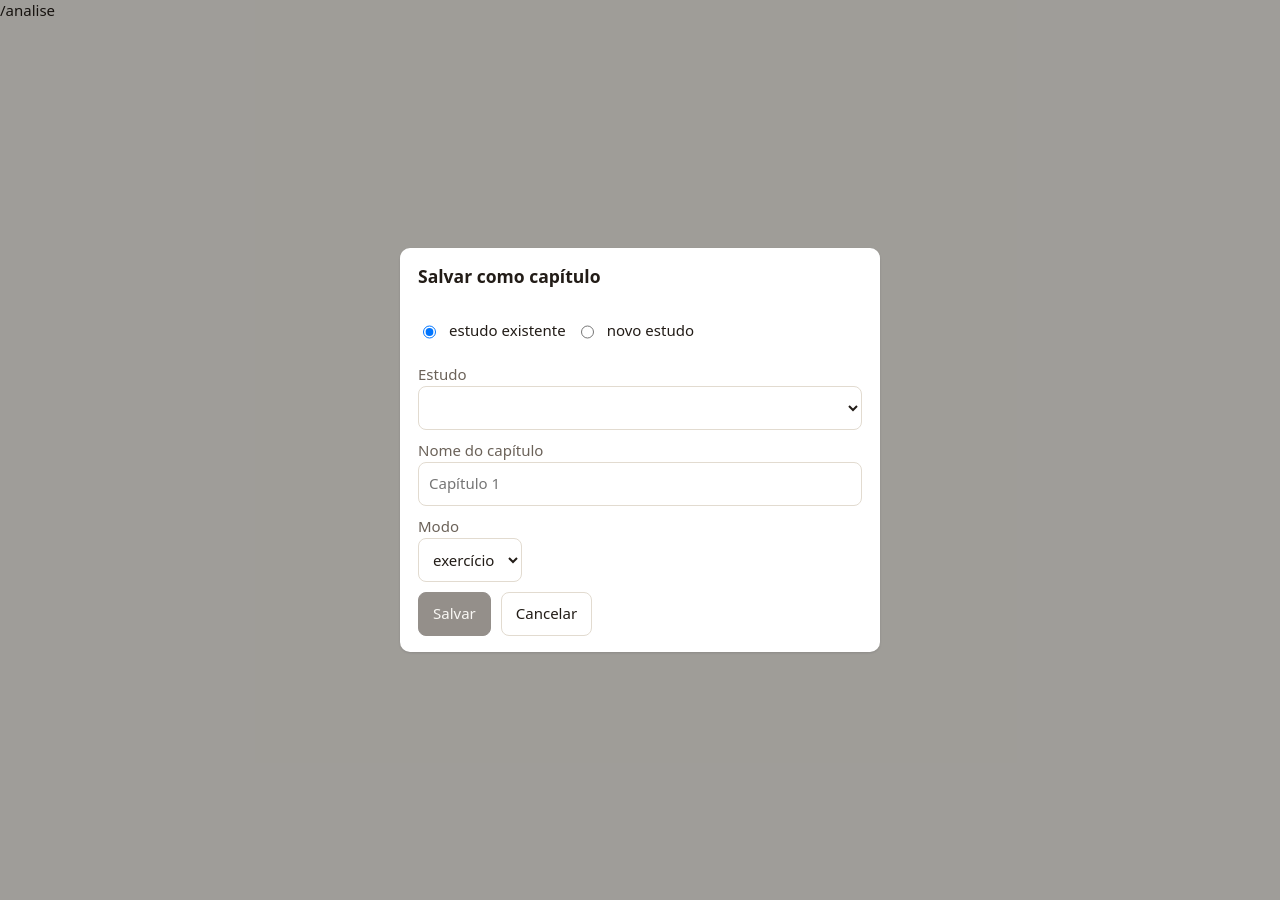
Test: novo estudo: cria o estudo, o capítulo, salva a árvore e abre o editor
The width and height of the screenshot is (1280, 900).
Click the radio button labelled "novo estudo" at (587, 332), box top-left (581, 310), bottom-right (594, 354)
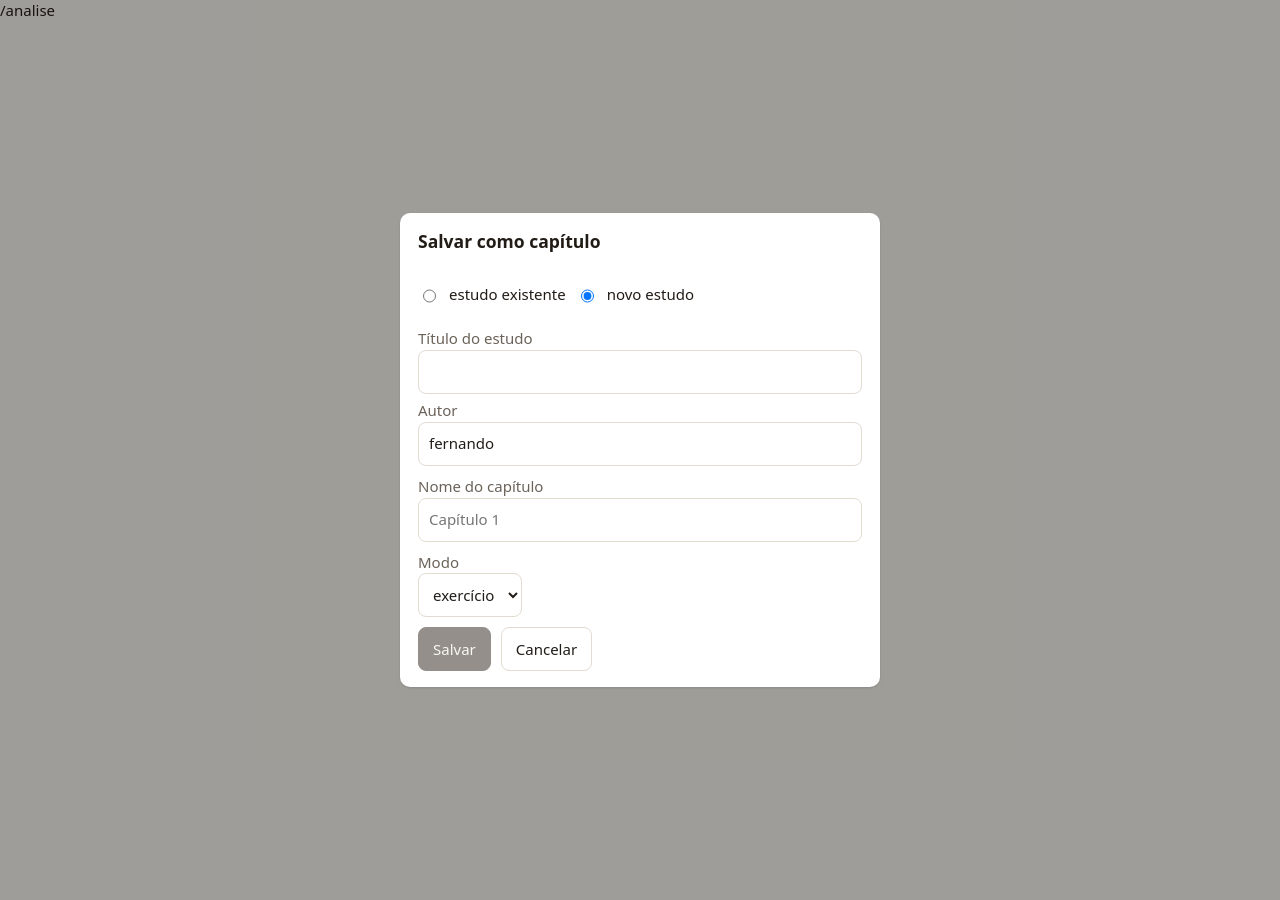
expect the field named "Autor" holds "fernando": met, box top-left (418, 422), bottom-right (862, 466)
Note: o autor sai do nome configurado: espera as configurações chegarem
Type "Aberturas" into the field named "Título do estudo" at (640, 372), box top-left (418, 350), bottom-right (862, 394)
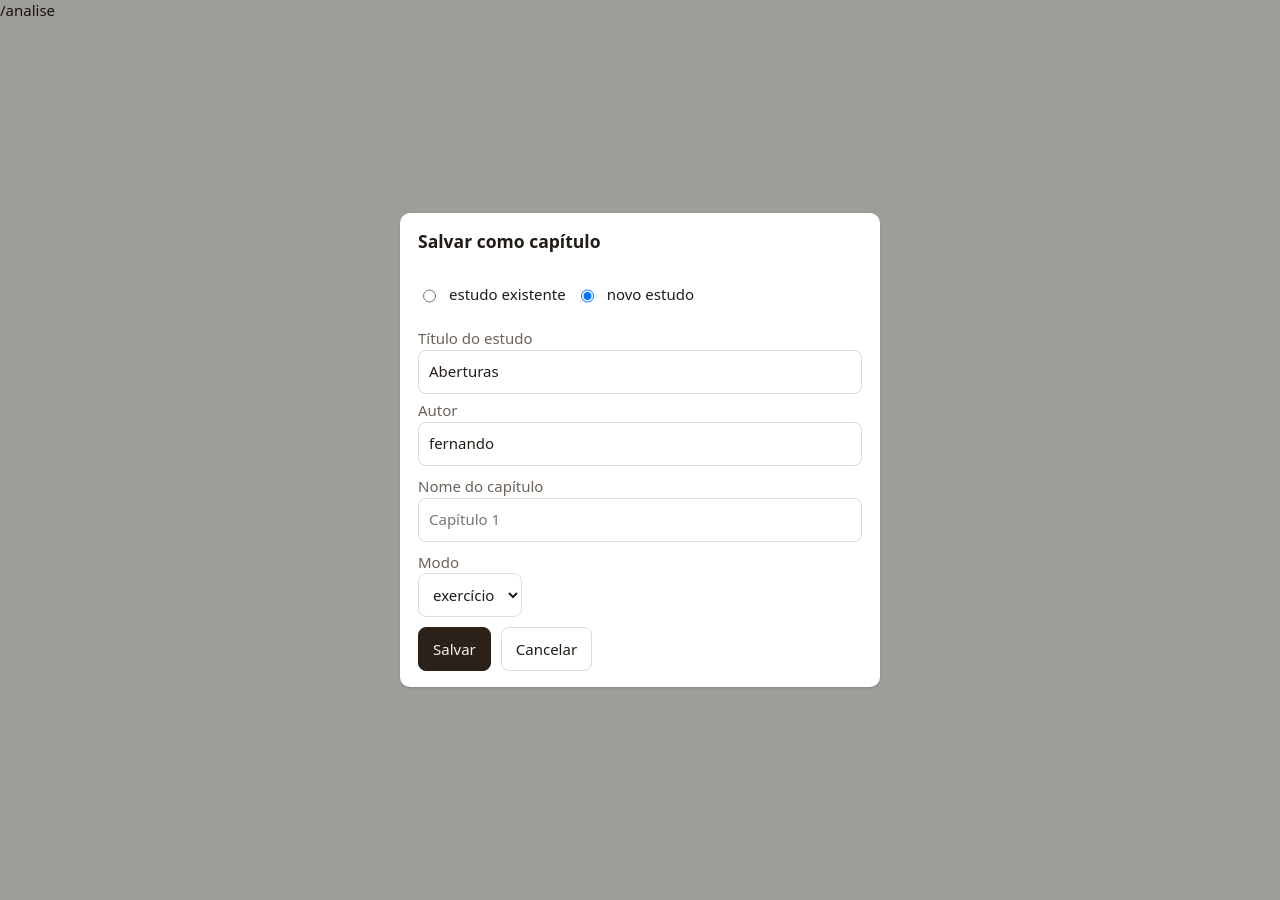
Type "Ruy López" into the field named "Nome do capítulo" at (640, 520), box top-left (418, 498), bottom-right (862, 542)
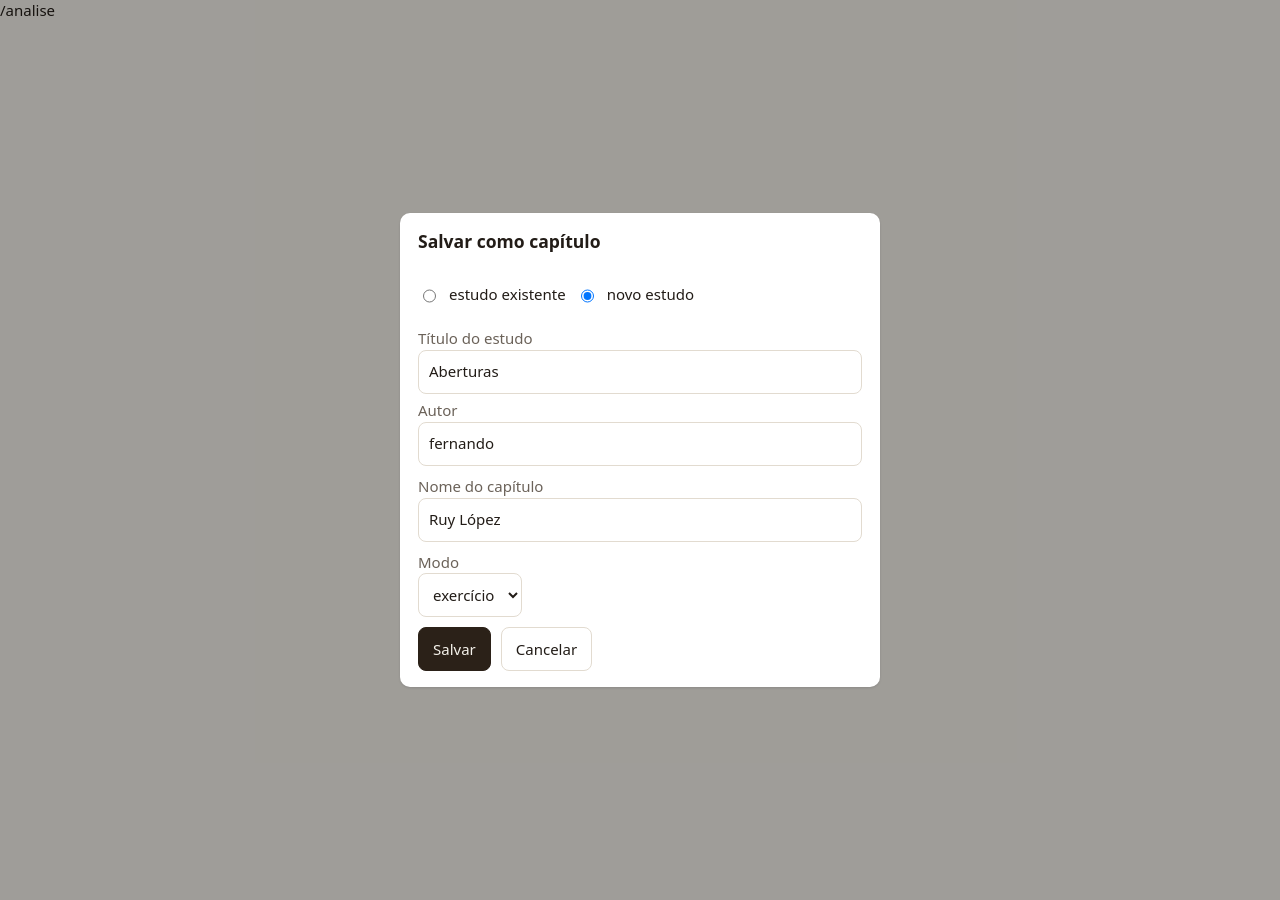
Click the button "Salvar" at (454, 650), box top-left (418, 628), bottom-right (491, 672)
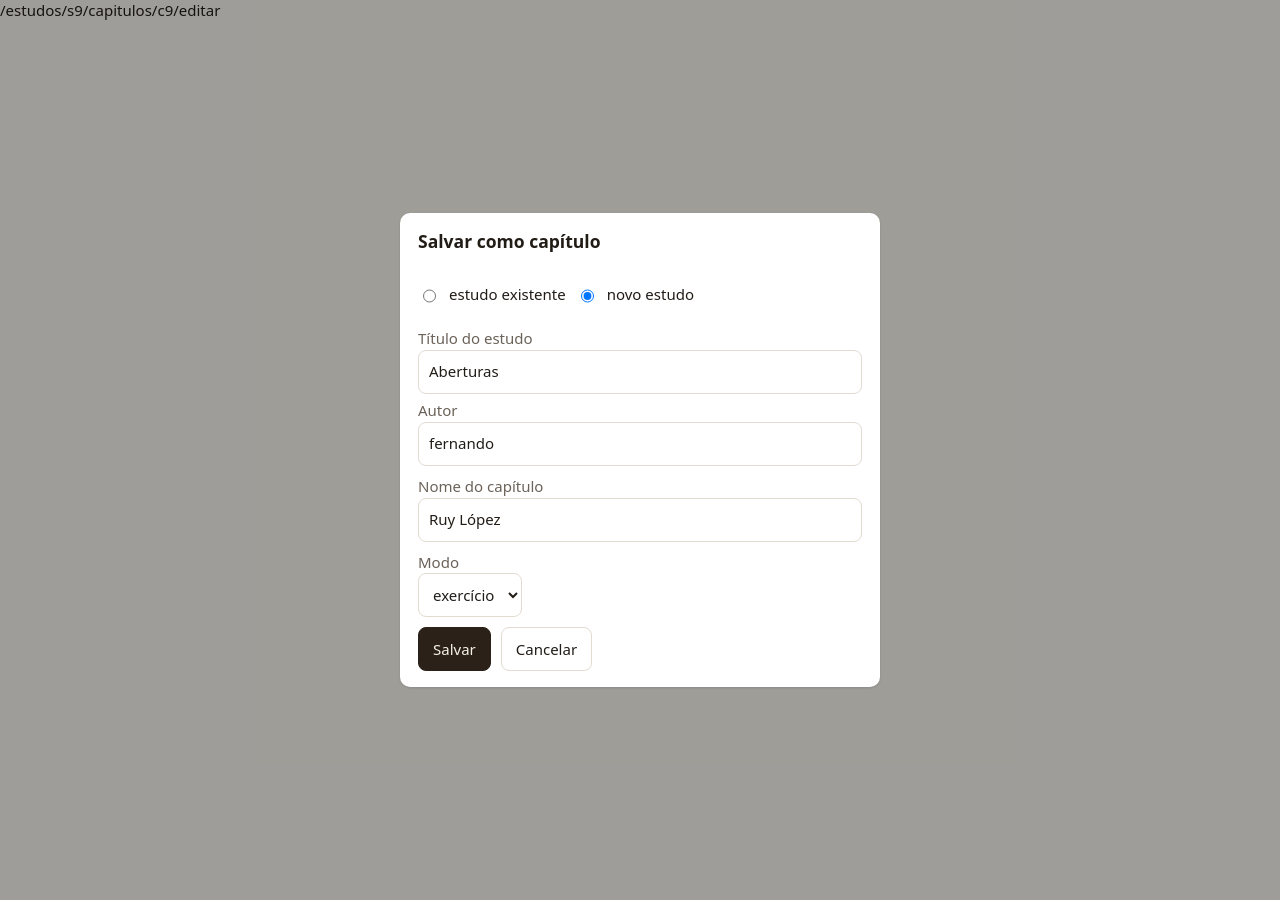
expect the text with test id "where" reads "/estudos/s9/capitulos/c9/editar": met, box top-left (0, 0), bottom-right (220, 20)
